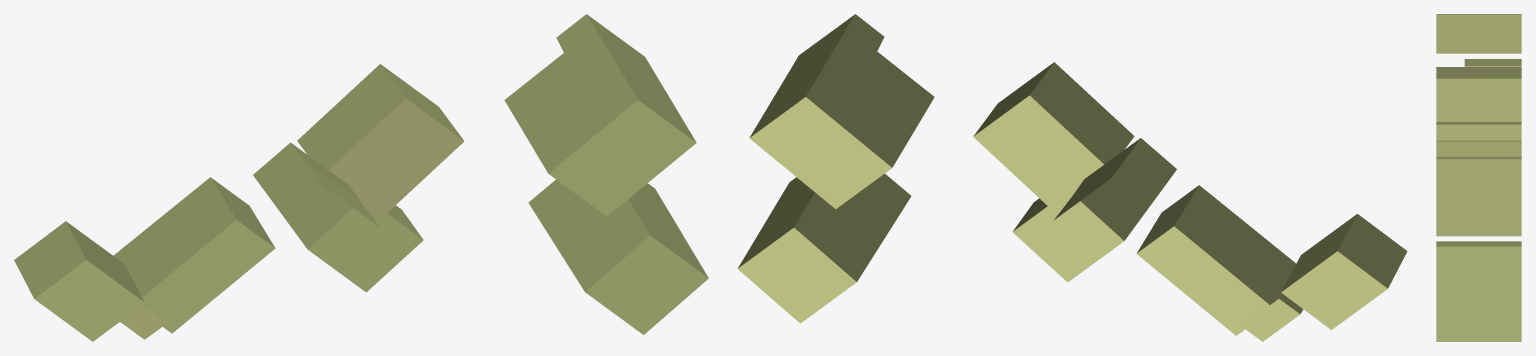
The picture shows the model from 3 angles, left to right: view 1: azimuth 30°, elevation 25°; view 2: azimuth 150°, elevation 25°; view 3: azimuth 270°, elevation 25°; orthographic projection. The views are drawn at different scales.
Visible parts, largest first — view 1: 0_1_2_0_3_3_0_2_0; view 2: 0_1_2_0_3_3_0_2_0; view 3: 0_1_2_0_3_3_0_2_0.
Part boxes in pixels (x1,y1,x2,y2): 0_1_2_0_3_3_0_2_0: (14,14,708,341); 0_1_2_0_3_3_0_2_0: (737,14,1407,341); 0_1_2_0_3_3_0_2_0: (1436,14,1521,341).
Bounding box in the file's own units: 56.34 × 23.56 × 9.
